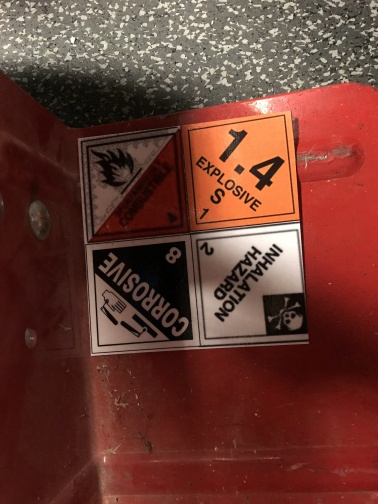Corrosive: (85, 235, 200, 352)
Explosive: (180, 111, 300, 231)
InhalationHazard: (189, 222, 310, 348)
SpontaneouslyCombustible: (81, 128, 191, 242)
